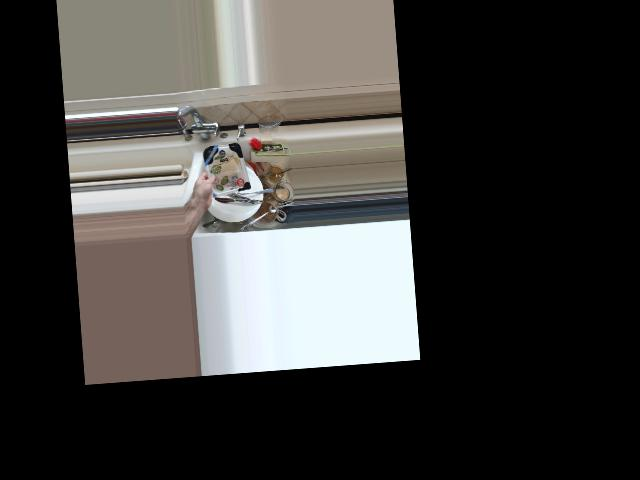cheese: (189, 138, 250, 206)
